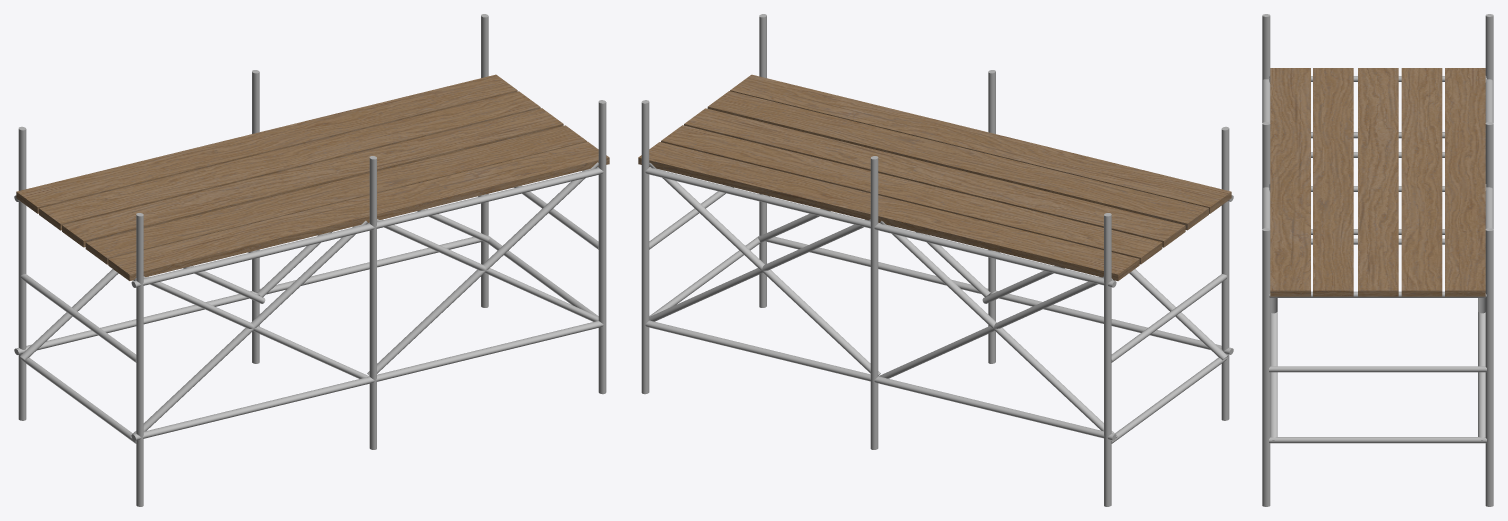
File: scaffolding.fbx
3 views of the same model, side by side, from view 1: azimuth 30°, elevation 25°; view 2: azimuth 150°, elevation 25°; view 3: azimuth 270°, elevation 25° (orthographic). The views are drawn at different scales.
Parts seen in each view (by area): view 1: polySurface234; view 2: polySurface234; view 3: polySurface234.
Boxes of the visible parts, <box> form: polySurface234: <box>14,14,609,506</box>; polySurface234: <box>638,14,1233,506</box>; polySurface234: <box>1262,14,1493,506</box>.
Size of the model in its own units: 9.41 by 5.45 by 4.14.
2 materials, 1 textured.
